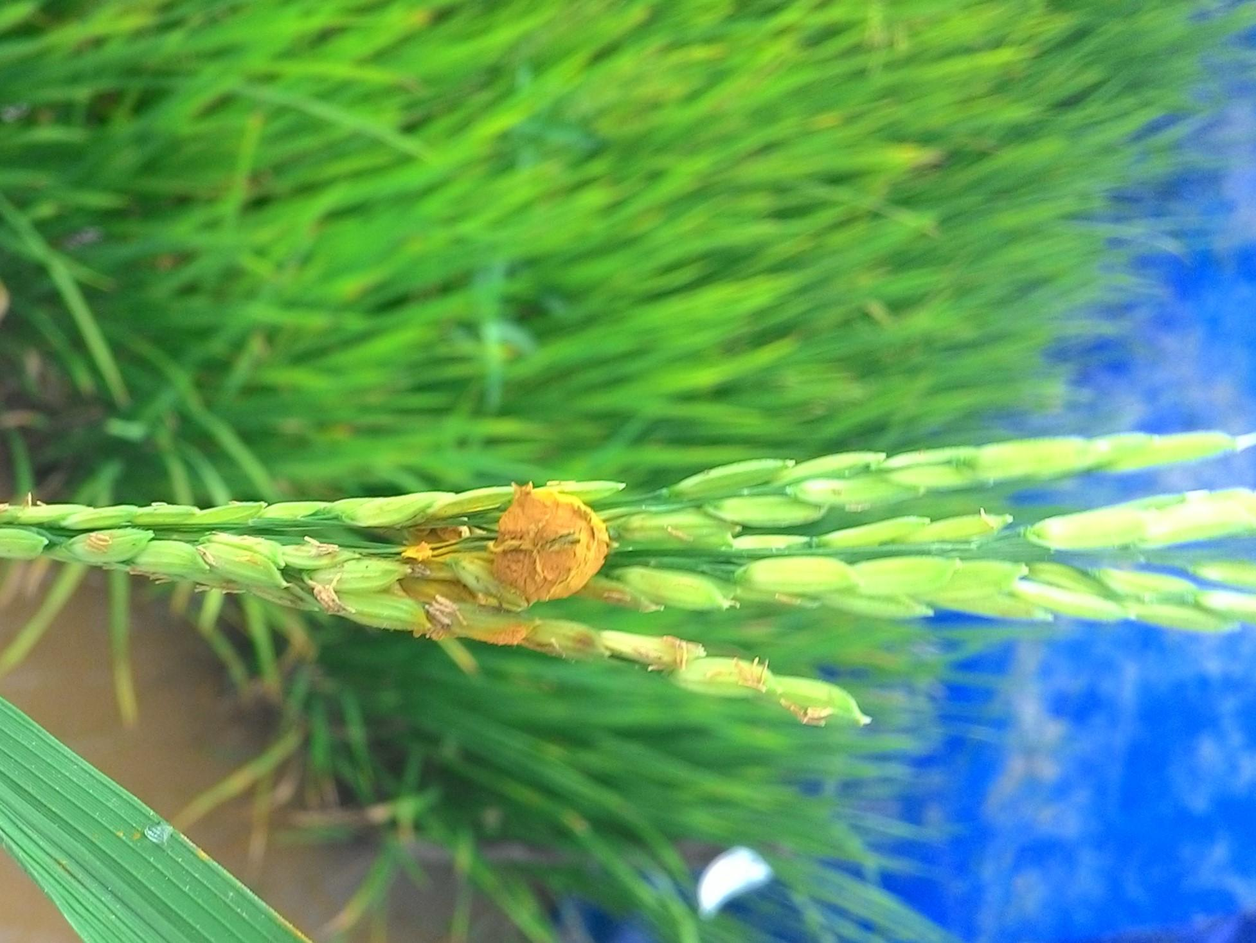False Smut: (478, 476, 619, 609)
